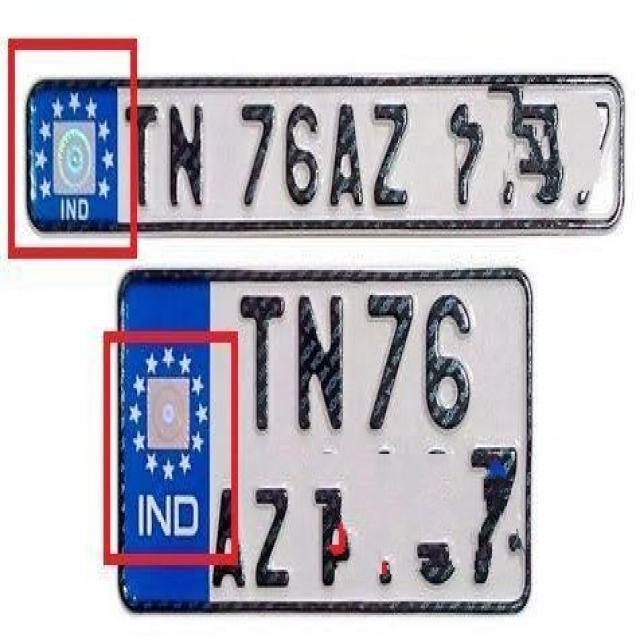License_Plate: (110, 272, 535, 616), (19, 80, 608, 236)
